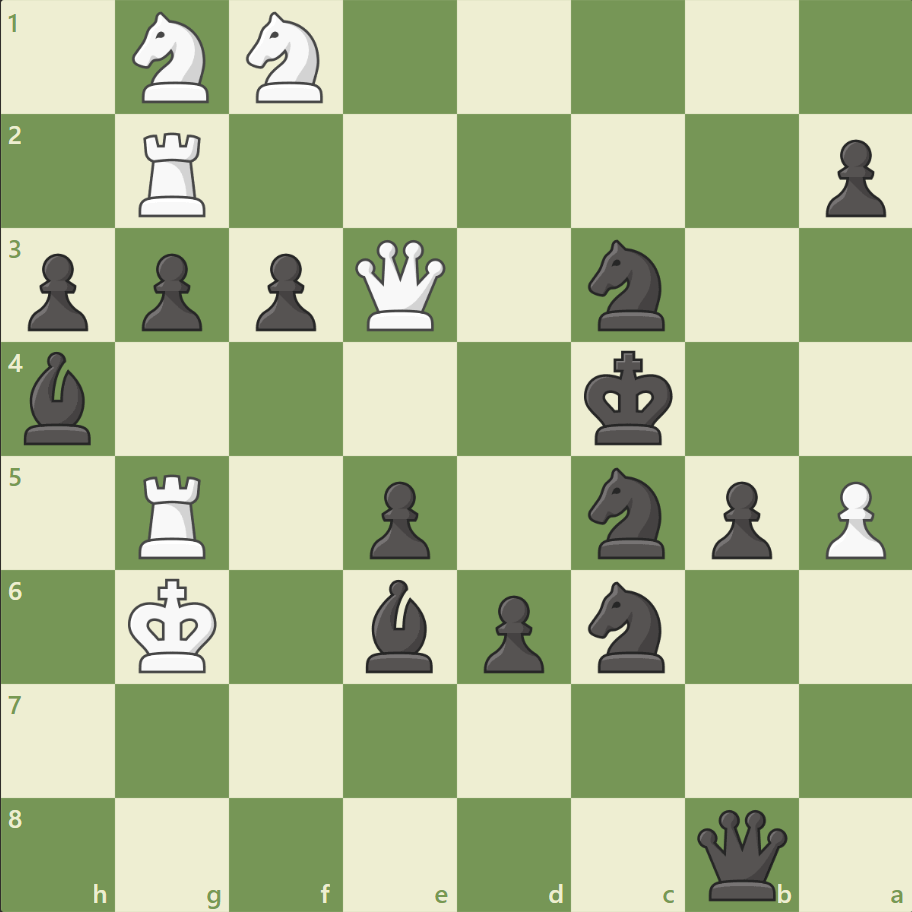K: (124, 571, 224, 679)
N: (124, 7, 222, 110), (238, 7, 335, 110)
P: (815, 473, 889, 564)
Q: (351, 236, 450, 335)
R: (133, 466, 215, 563), (133, 125, 215, 222)
b: (358, 574, 442, 676), (17, 347, 101, 449)
k: (579, 344, 679, 452)
n: (579, 461, 676, 564), (579, 234, 676, 337), (579, 575, 676, 677)
p: (474, 586, 549, 677), (701, 473, 776, 564), (247, 246, 322, 337), (133, 246, 208, 337), (20, 246, 95, 337), (361, 473, 435, 564), (815, 132, 889, 223)
q: (691, 804, 790, 903)
